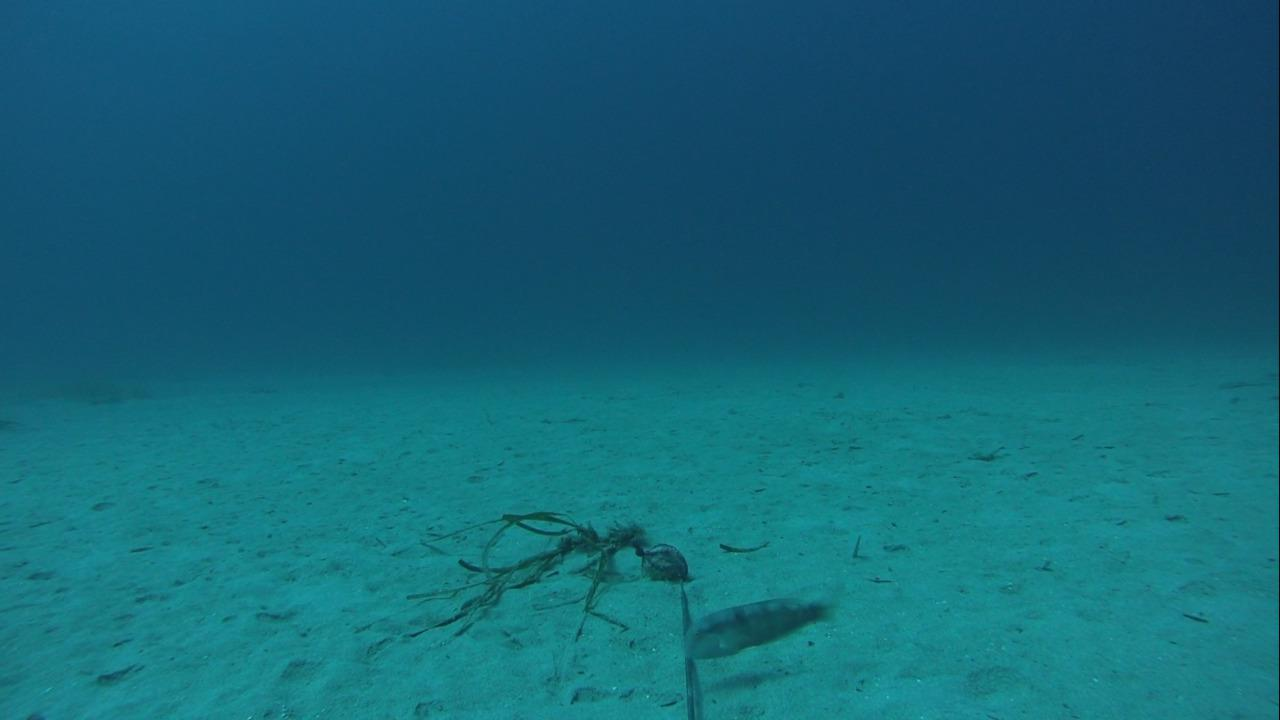raor: (680, 592, 837, 660)
